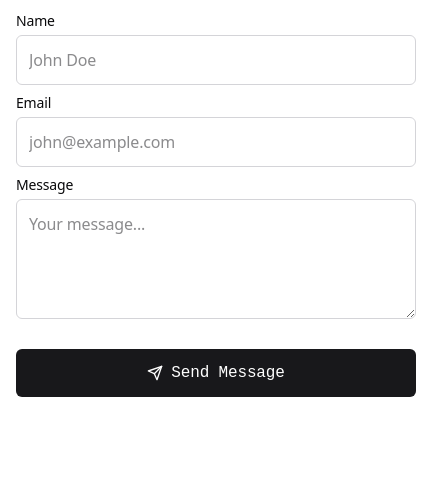
Test: AnimatedContactForm › validates all fields on submit
Click the button "Send Message": (216, 373) [16,349,416,397]
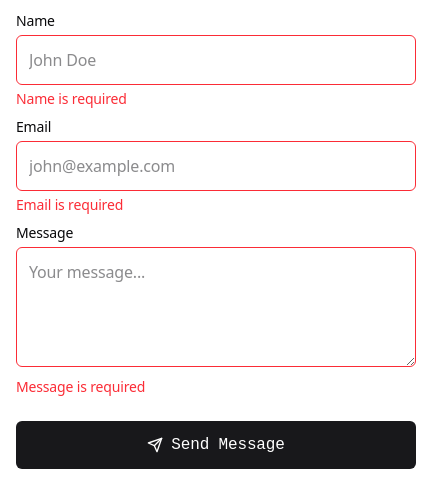
Expected: the text "Name is required" is shown, [16,89,127,108]
Expected: the text "Email is required" is shown, [16,195,123,214]
Expected: the text "Message is required" is shown, [16,377,145,396]
